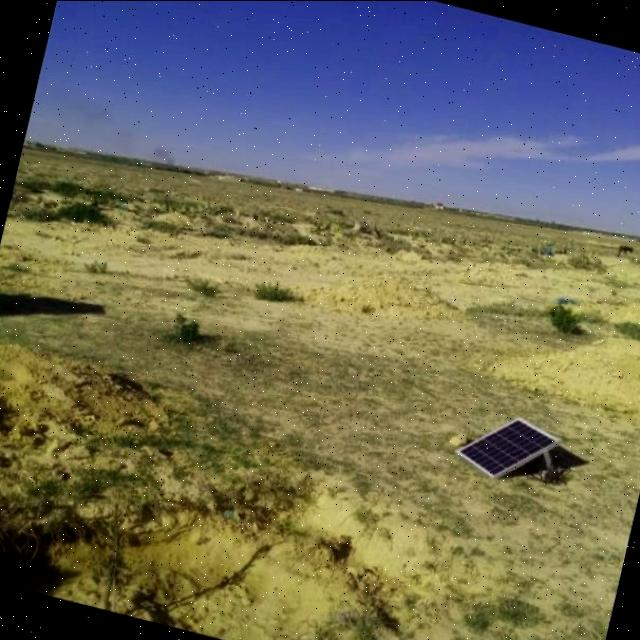Normal Solar Panel: (451, 398, 564, 487)
